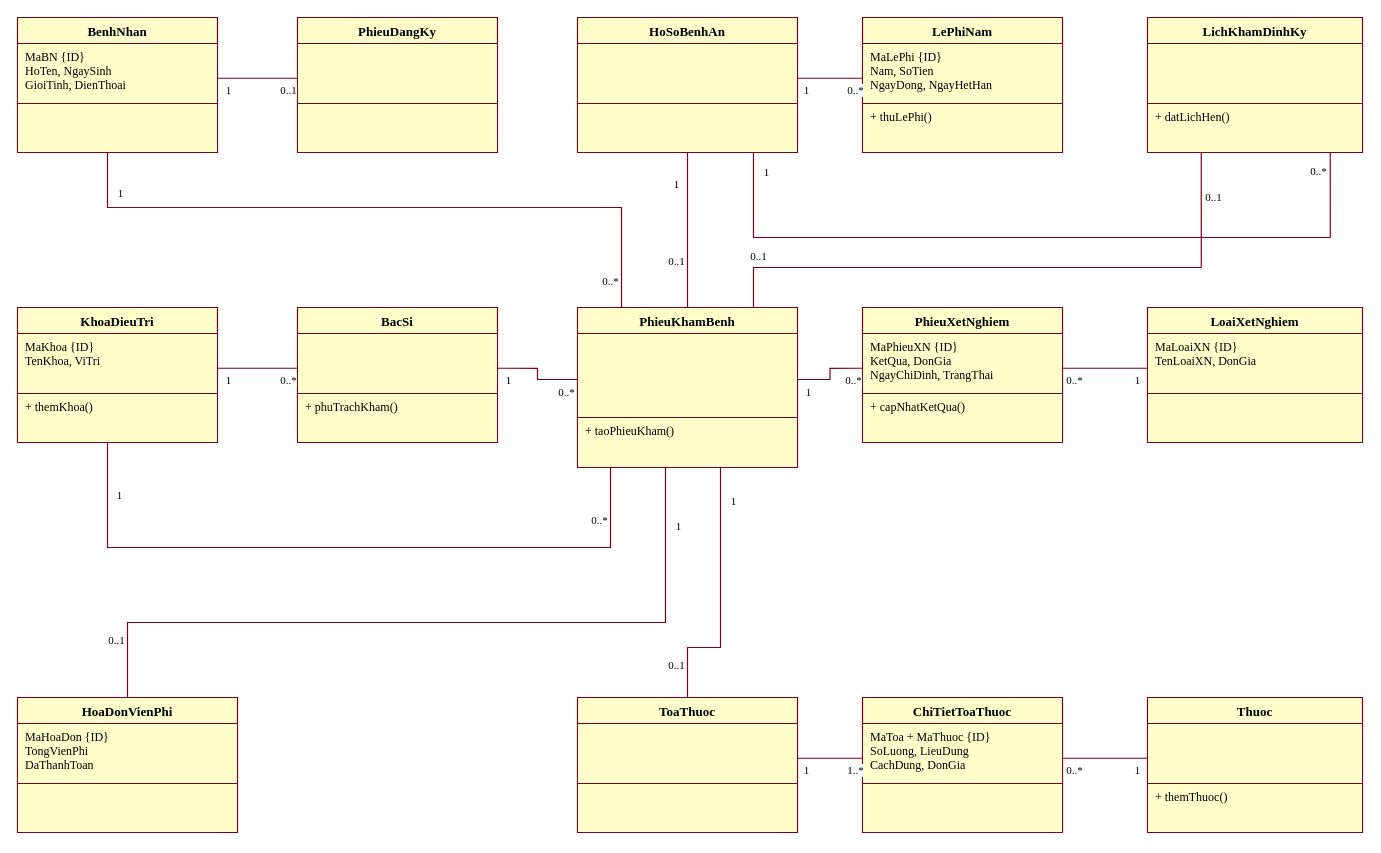
Image size: 1381x853. Some labels were removed from this diagram. Each missing label, with the centre of its shape:
+ cungCapThongTin(): the point at 117,127
+ lapDangKy(): the point at 397,127
+ lapToaThuoc(): the point at 687,807
+ thanhToanVaHoanTat(): the point at 127,807
+ themLoaiXN(): the point at 1254,417
+ tinhThanhTien(): the point at 962,807
+ traCuuLichSu(): the point at 687,127
MaBacSi {ID} HoTen, ChuyenKhoa: the point at 397,363
MaHoSo {ID} NgayLap, TienSuDiUng TrangThai: the point at 687,73
MaLichHen {ID} Nam, Quy, NgayGioHen TrangThai: the point at 1254,73
MaPhieuDK {ID} NgayDangKy, GhiChu: the point at 397,73
MaPhieuKham {ID} NgayGioKham, LoaiKham TrieuChung, ChanDoan TienKham, TrangThai: the point at 687,375
MaThuoc {ID} TenThuoc, DonViTinh DonGia: the point at 1254,753
MaToa {ID} NgayKe, LoiDanBacSi TongTienThuoc: the point at 687,753
